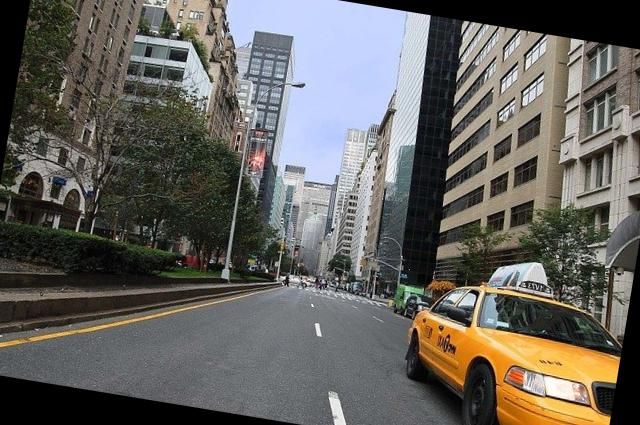taxi: (395, 278, 623, 421)
